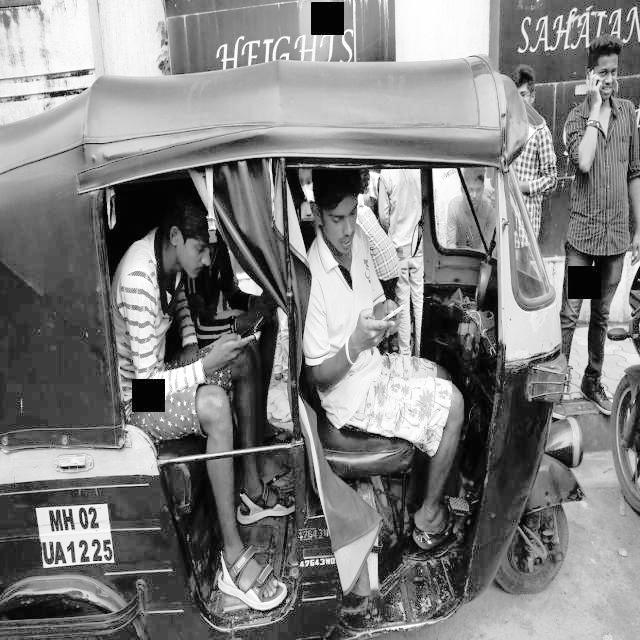Auto-Rickshaw: (2, 49, 592, 639)
